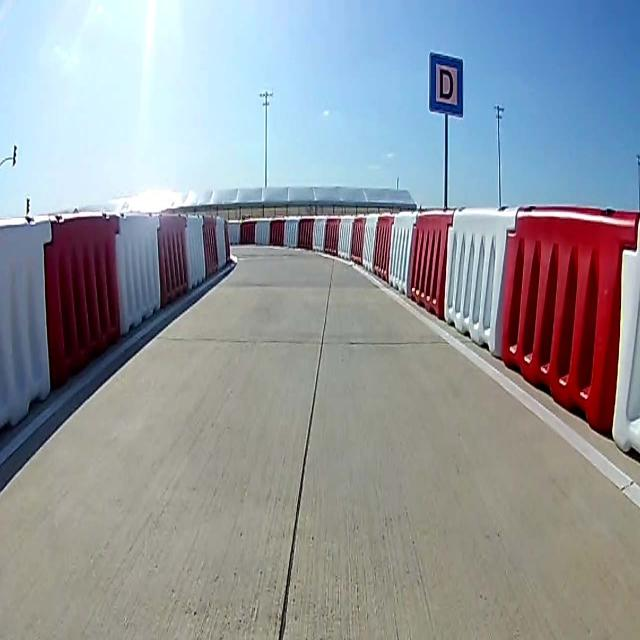durak: (429, 51, 463, 118)
